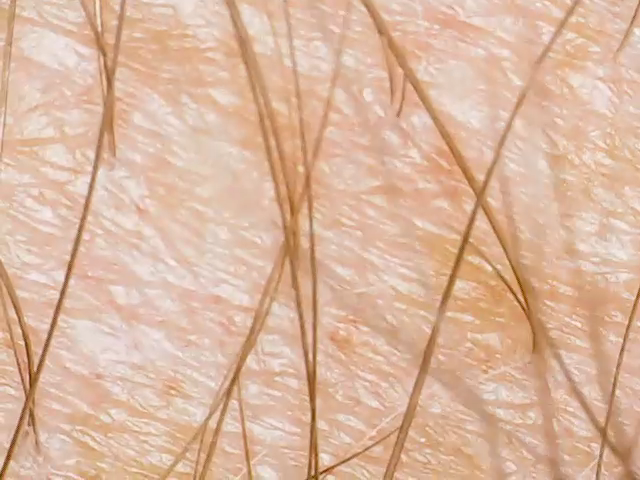folicle: (380, 95, 408, 129), (17, 404, 45, 433), (378, 83, 400, 112), (23, 434, 48, 458), (520, 336, 543, 361), (96, 142, 125, 161), (607, 42, 627, 65)
